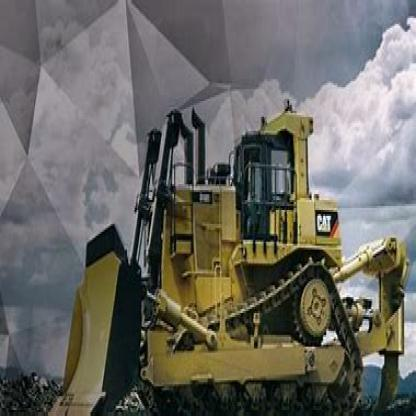bull_dozer/loader/grader: (45, 83, 409, 414)
